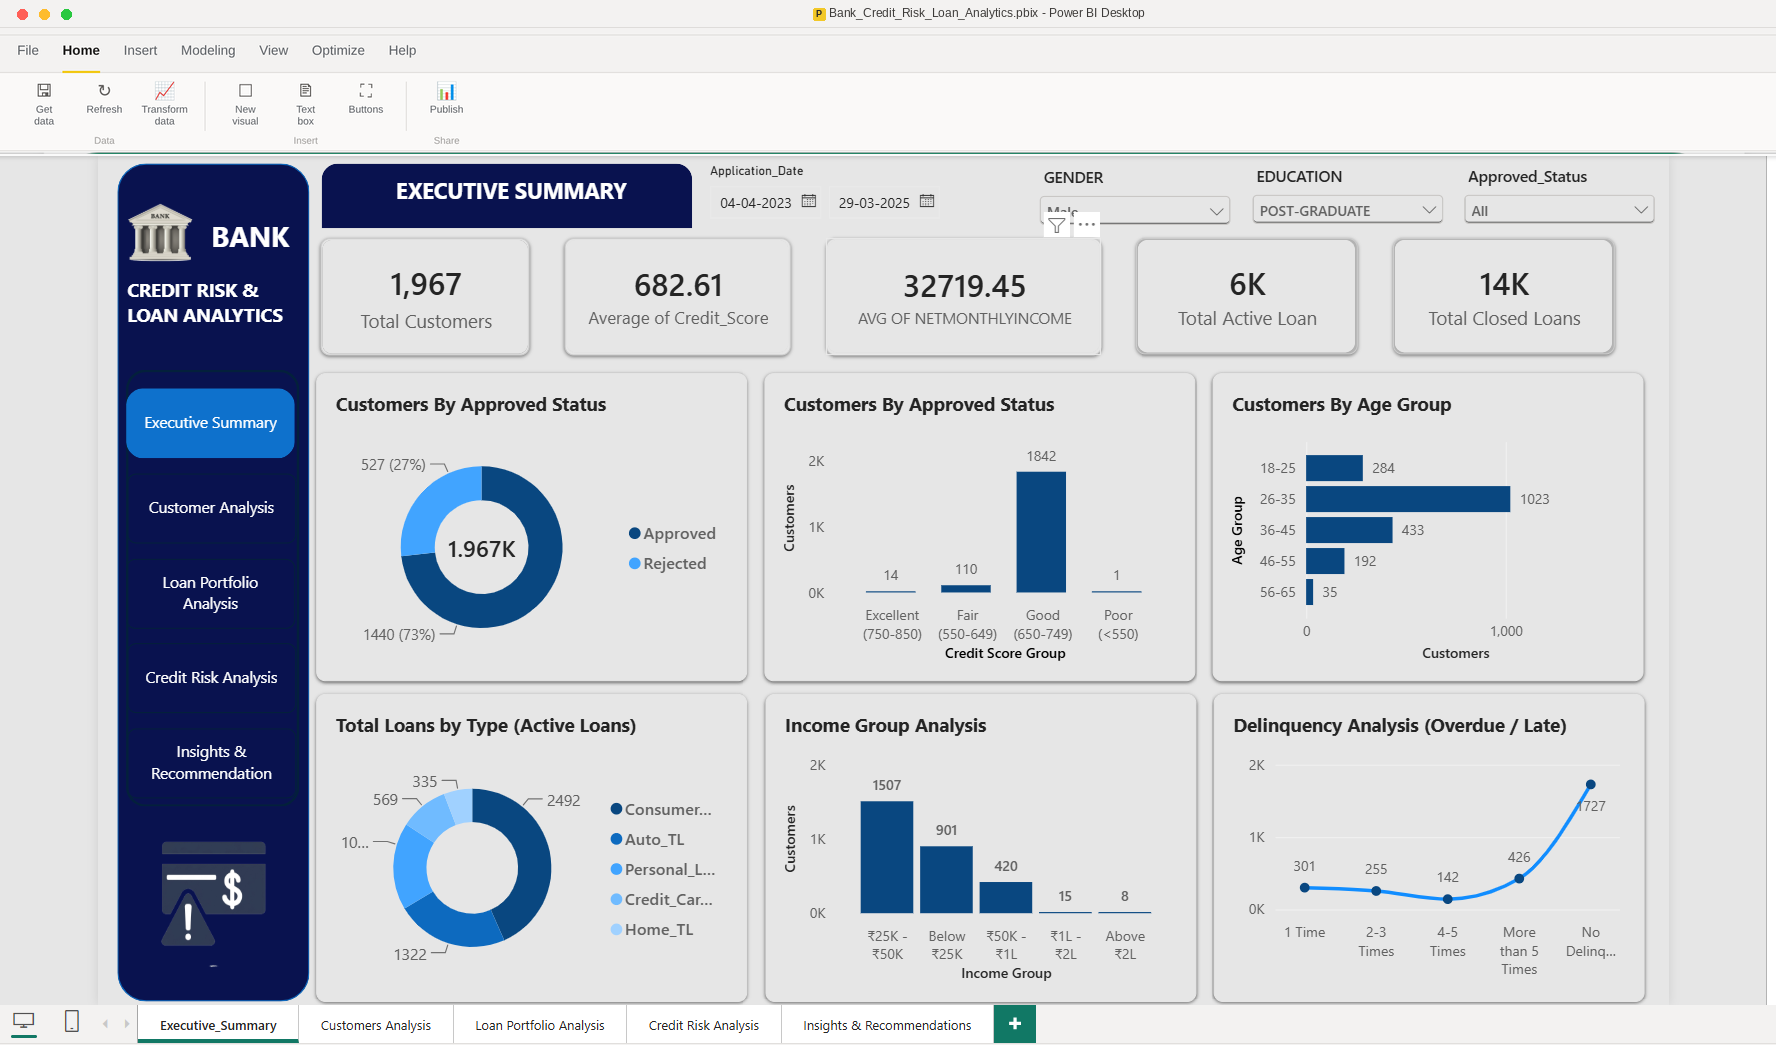

This screenshot's page, from the dashboard's own definition file:
{"tool":"powerbi","page":{"name":"Executive_Summary","canvas":[1350,730],"ordinal":0},"visuals":[{"type":"shape","box":[16.4,6.2,165,720],"z":0},{"type":"image","box":[16.4,27,71.8,77],"z":1000},{"type":"textbox","box":[88.1,51.9,85.3,36.4],"z":2000},{"type":"textbox","box":[24.7,103.9,174.3,55.7],"z":3000},{"type":"shape","box":[23.9,184.1,148.7,375.5],"z":4000},{"type":"actionButton","title":"Executive Summary","box":[23.9,199.7,145,60.3],"z":5000},{"type":"actionButton","title":"Executive Summary","box":[25,272.7,145,60.3],"z":6000},{"type":"actionButton","title":"Executive Summary","box":[23.9,345.8,145,60.3],"z":7000},{"type":"actionButton","title":"Executive Summary","box":[25,418.9,145,60.3],"z":8000},{"type":"actionButton","title":"Executive Summary","box":[25,491.9,145,60.3],"z":9000},{"type":"shape","box":[192.4,6.2,318.6,55.7],"z":10000},{"type":"textbox","box":[223.6,16.6,263.1,35.4],"z":11000},{"type":"slicer","fields":{"Values":["Dim_Customer.Application_Date"]},"box":[517.9,6.2,275.6,64.5],"z":12000},{"type":"slicer","fields":{"Values":["Dim_Customer.GENDER"]},"box":[805,8.2,173.7,60.3],"z":13000},{"type":"slicer","fields":{"Values":["Dim_Customer.EDUCATION"]},"box":[987,7.1,173.7,60.3],"z":14000},{"type":"slicer","fields":{"Values":["Dim_Customer.Approved_Status"]},"box":[1169,7.3,173.7,60.3],"z":15000},{"type":"cardVisual","fields":{"Data":["Count(Dim_Customer.PROSPECTID)"]},"box":[191,70.7,180,101],"z":16000},{"type":"cardVisual","fields":{"Data":["Avg(Dim_Customer.Credit_Score)"]},"box":[400.8,70.7,194.5,100.9],"z":17000},{"type":"cardVisual","fields":{"Data":["Avg(Dim_Customer.NETMONTHLYINCOME)"]},"box":[625.1,70.7,237.1,100.9],"z":18000},{"type":"cardVisual","fields":{"Data":["Sum(Fact_loan.Active Loan Count)"]},"box":[892,70.7,190.5,100.4],"z":19000},{"type":"cardVisual","fields":{"Data":["Sum(Fact_loan.Tot_Closed_TL)"]},"box":[1112.3,70.7,190.5,100.4],"z":20000},{"type":"donutChart","title":"Customers By Approved Status","fields":{"Category":["Dim_Customer.Approved_Status"],"Y":["CountNonNull(Dim_Customer.PROSPECTID)"]},"box":[187.6,186.2,370,264.7],"z":21000},{"type":"clusteredColumnChart","title":"Customers By Approved Status","fields":{"Category":["Dim_Customer.Credit Score Group"],"Y":["CountNonNull(Dim_Customer.PROSPECTID)"]},"box":[572.8,186.3,370,264.7],"z":22000},{"type":"clusteredBarChart","title":"Customers By Age Group","fields":{"Category":["Dim_Customer.Age Group"],"Y":["CountNonNull(Dim_Customer.PROSPECTID)"]},"box":[958.2,186.3,370,264.7],"z":23000},{"type":"pieChart","title":"Total Loans by Type (Active Loans)","fields":{"Category":["Fact_loan.Loan_Type"],"Y":["Sum(Fact_loan.Active Loan Count)"]},"box":[187.3,461.8,370,264.7],"z":24000},{"type":"clusteredColumnChart","title":"Income Group Analysis","fields":{"Category":["Dim_Customer.Income Group"],"Y":["CountNonNull(Fact_loan.PROSPECTID)"]},"box":[573.8,461.8,370,264.7],"z":25000},{"type":"lineChart","title":"Delinquency Analysis (Overdue  / Late)","fields":{"Category":["Dim_Customer.Delinquency Group"],"Y":["CountNonNull(Fact_loan.PROSPECTID)"]},"box":[958.3,461.8,370,264.7],"z":26000}]}

Visuals, with their boxes on the page's 1350x730 design canvas (x1, y1, x2, y2). These are canvas units, not pixel positions in the 1776x1045 screenshot, which may show the page scaled, cropped or inside an application window:
shape: locate(16, 6, 181, 726)
image: locate(16, 27, 88, 104)
textbox: locate(88, 52, 173, 88)
textbox: locate(25, 104, 199, 160)
shape: locate(24, 184, 173, 560)
"Executive Summary" actionButton: locate(24, 200, 169, 260)
"Executive Summary" actionButton: locate(25, 273, 170, 333)
"Executive Summary" actionButton: locate(24, 346, 169, 406)
"Executive Summary" actionButton: locate(25, 419, 170, 479)
"Executive Summary" actionButton: locate(25, 492, 170, 552)
shape: locate(192, 6, 511, 62)
textbox: locate(224, 17, 487, 52)
slicer - Dim_Customer.Application_Date: locate(518, 6, 794, 71)
slicer - Dim_Customer.GENDER: locate(805, 8, 979, 68)
slicer - Dim_Customer.EDUCATION: locate(987, 7, 1161, 67)
slicer - Dim_Customer.Approved_Status: locate(1169, 7, 1343, 68)
cardVisual - Count(Dim_Customer.PROSPECTID): locate(191, 71, 371, 172)
cardVisual - Avg(Dim_Customer.Credit_Score): locate(401, 71, 595, 172)
cardVisual - Avg(Dim_Customer.NETMONTHLYINCOME): locate(625, 71, 862, 172)
cardVisual - Sum(Fact_loan.Active Loan Count): locate(892, 71, 1082, 171)
cardVisual - Sum(Fact_loan.Tot_Closed_TL): locate(1112, 71, 1303, 171)
"Customers By Approved Status" donutChart: locate(188, 186, 558, 451)
"Customers By Approved Status" clusteredColumnChart: locate(573, 186, 943, 451)
"Customers By Age Group" clusteredBarChart: locate(958, 186, 1328, 451)
"Total Loans by Type (Active Loans)" pieChart: locate(187, 462, 557, 726)
"Income Group Analysis" clusteredColumnChart: locate(574, 462, 944, 726)
"Delinquency Analysis (Overdue  / Late)" lineChart: locate(958, 462, 1328, 726)
